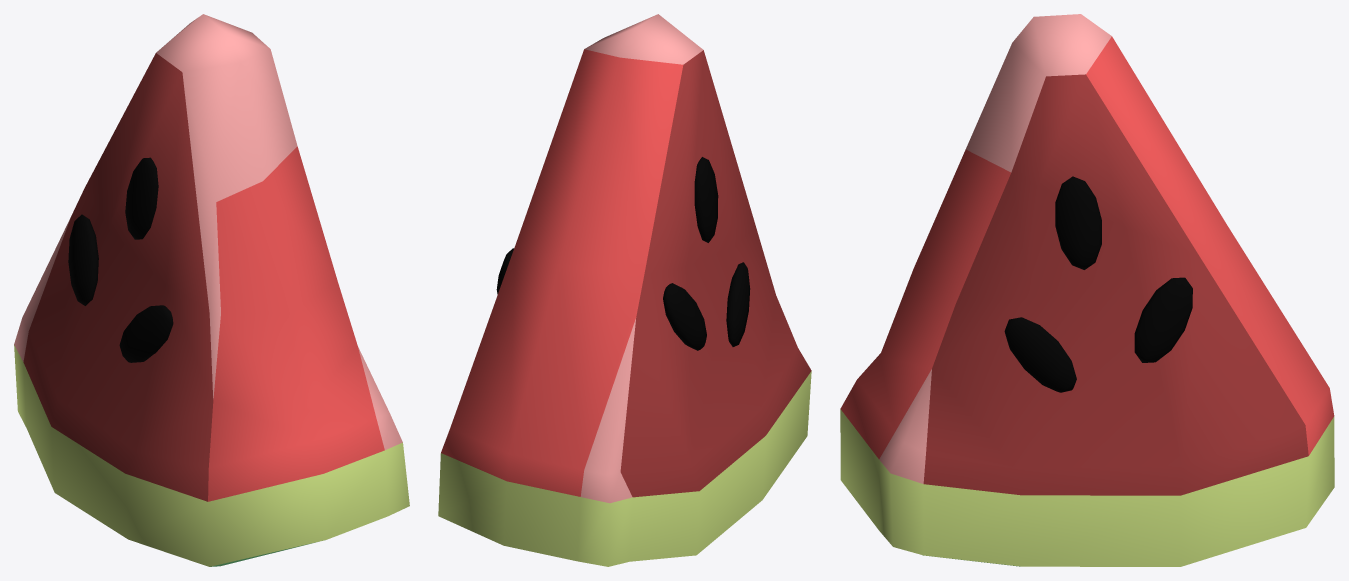
Rendered from Fx_Mesh_watermelon_PartsC.FBX.
3 views of the same model, side by side, from view 1: azimuth 30°, elevation 25°; view 2: azimuth 150°, elevation 25°; view 3: azimuth 270°, elevation 25° (orthographic). The views are drawn at different scales.
Parts seen in each view (by area): view 1: Fx_Mesh_watermelon_PartsC; view 2: Fx_Mesh_watermelon_PartsC; view 3: Fx_Mesh_watermelon_PartsC.
Part boxes in pixels (x1=…): Fx_Mesh_watermelon_PartsC: x1=14, y1=14, x2=409, y2=566; Fx_Mesh_watermelon_PartsC: x1=438, y1=14, x2=811, y2=566; Fx_Mesh_watermelon_PartsC: x1=840, y1=14, x2=1334, y2=566.
Size of the model in its own units: 10.26 by 20.39 by 17.83.
